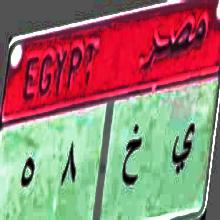5: (13, 145, 38, 200)
8: (58, 135, 81, 190)
khaa: (120, 122, 144, 199)
yaa: (171, 110, 194, 182)
